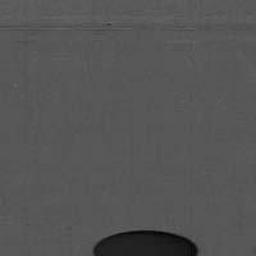Punching: (93, 230, 198, 256)
